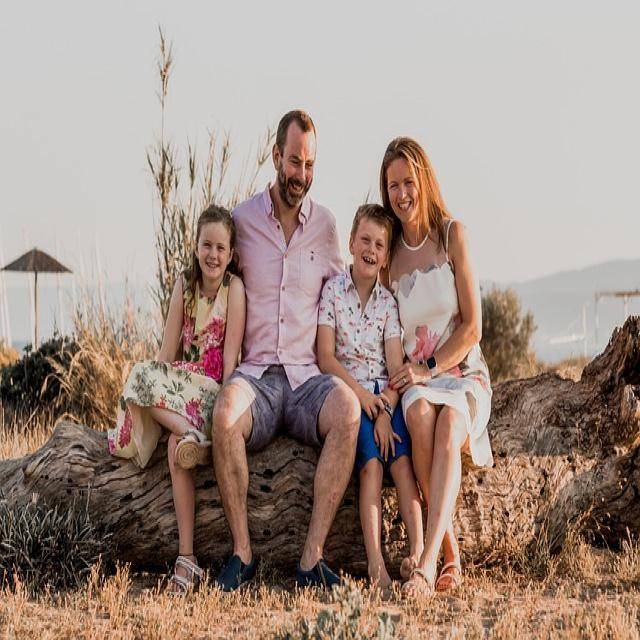adult: (210, 107, 364, 594), (378, 134, 493, 599)
child: (125, 202, 246, 600), (318, 205, 426, 602)
